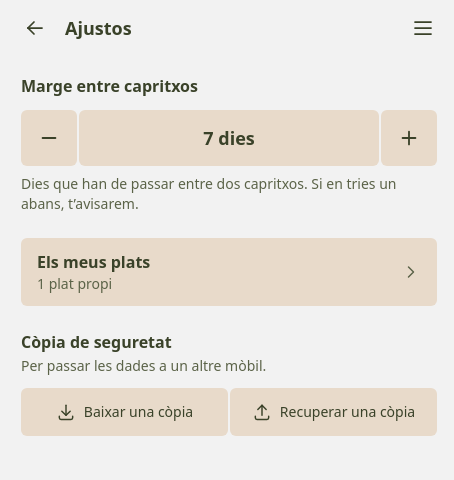
it: SettingsScreen › còpia de seguretat › exportar baixa un fitxer amb totes les dades
Expected: the heading "Ajustos" is shown, [65,16,132,40]
Click the button "Baixar una còpia" at x=124, y=412, box [21,388,228,436]
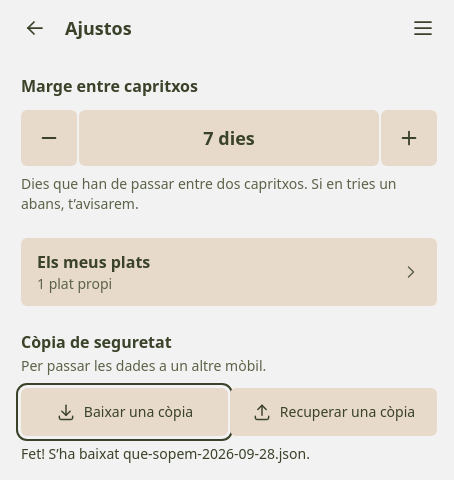
Result: the text "Fet! S’ha baixat que-sopem-2026-09-28.json." is shown at [21,444,310,463]
